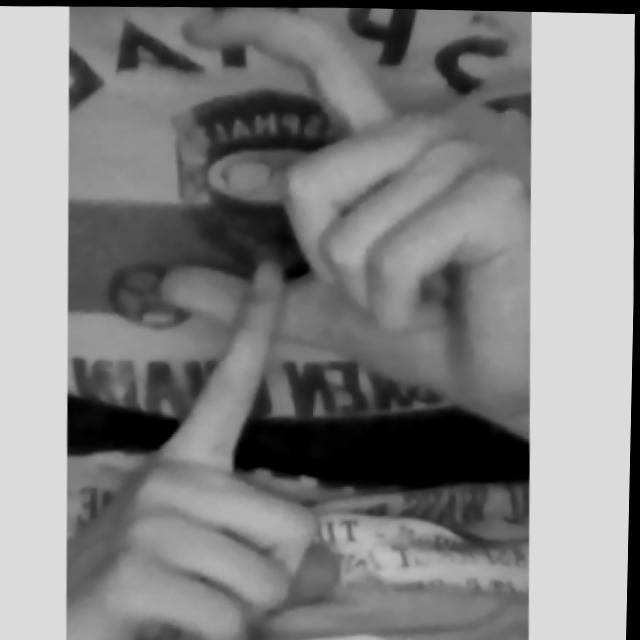C_: (58, 2, 540, 640)
